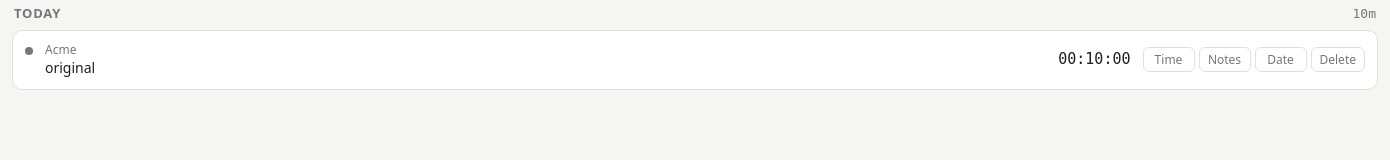
it: DayList notes editing › reports a failed save and keeps the draft
Click the button titled "Edit notes".
click(70, 68)  # box [45,58,1046,78]
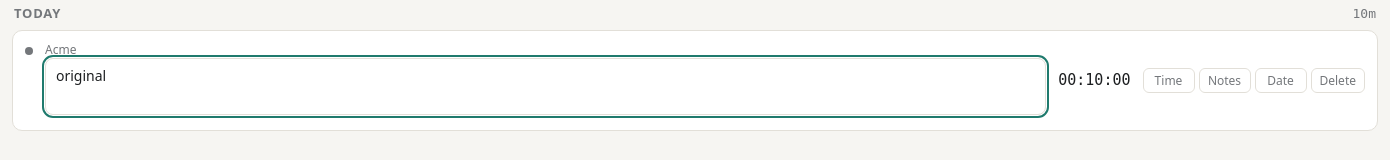
Replace the text in the text box with "changed" at (546, 86), box [45,58,1046,115]
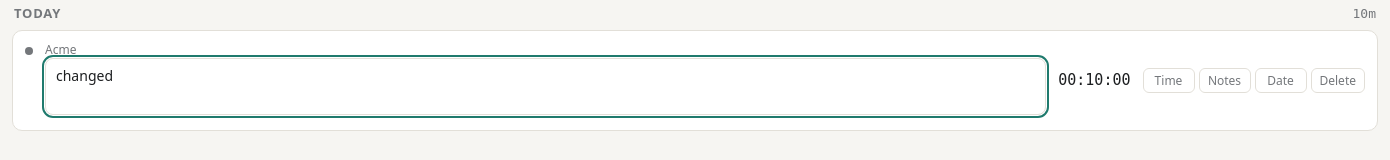
Press Enter in the text box, box [45,58,1046,115]
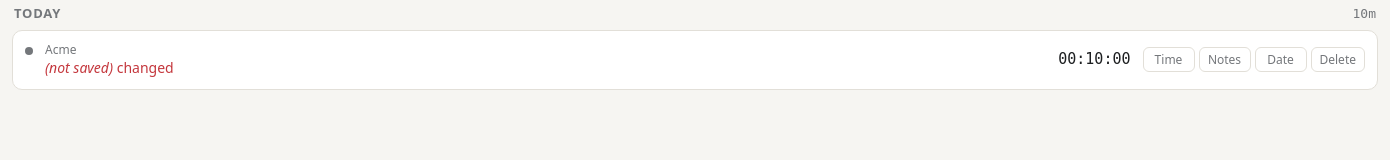
Click the button titled "Edit notes".
click(145, 68)  # box [45,58,1046,78]
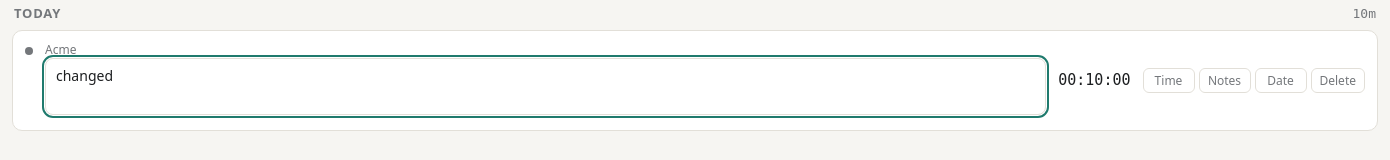
Expected: the text box holds "changed", [45,58,1046,115]
